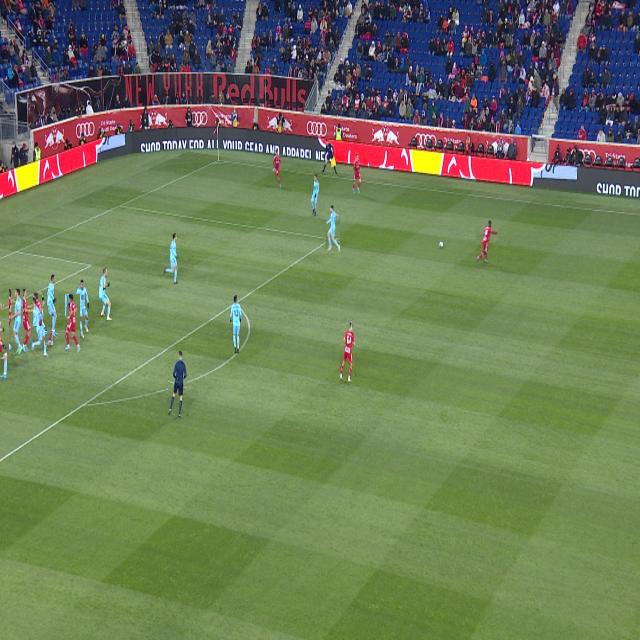football: (439, 241, 444, 248)
player: (31, 297, 48, 356), (476, 221, 498, 263), (340, 321, 355, 382), (65, 294, 80, 353), (21, 289, 35, 352), (10, 289, 23, 354), (75, 279, 89, 338), (163, 233, 179, 284), (230, 295, 242, 353), (47, 274, 58, 337), (99, 268, 112, 320), (326, 205, 340, 252), (272, 148, 281, 187), (311, 175, 319, 215), (353, 154, 361, 193), (0, 320, 6, 356), (34, 292, 42, 315), (0, 353, 7, 378), (45, 332, 53, 345), (0, 304, 3, 314), (41, 317, 42, 326)
referee: (169, 352, 187, 418)
